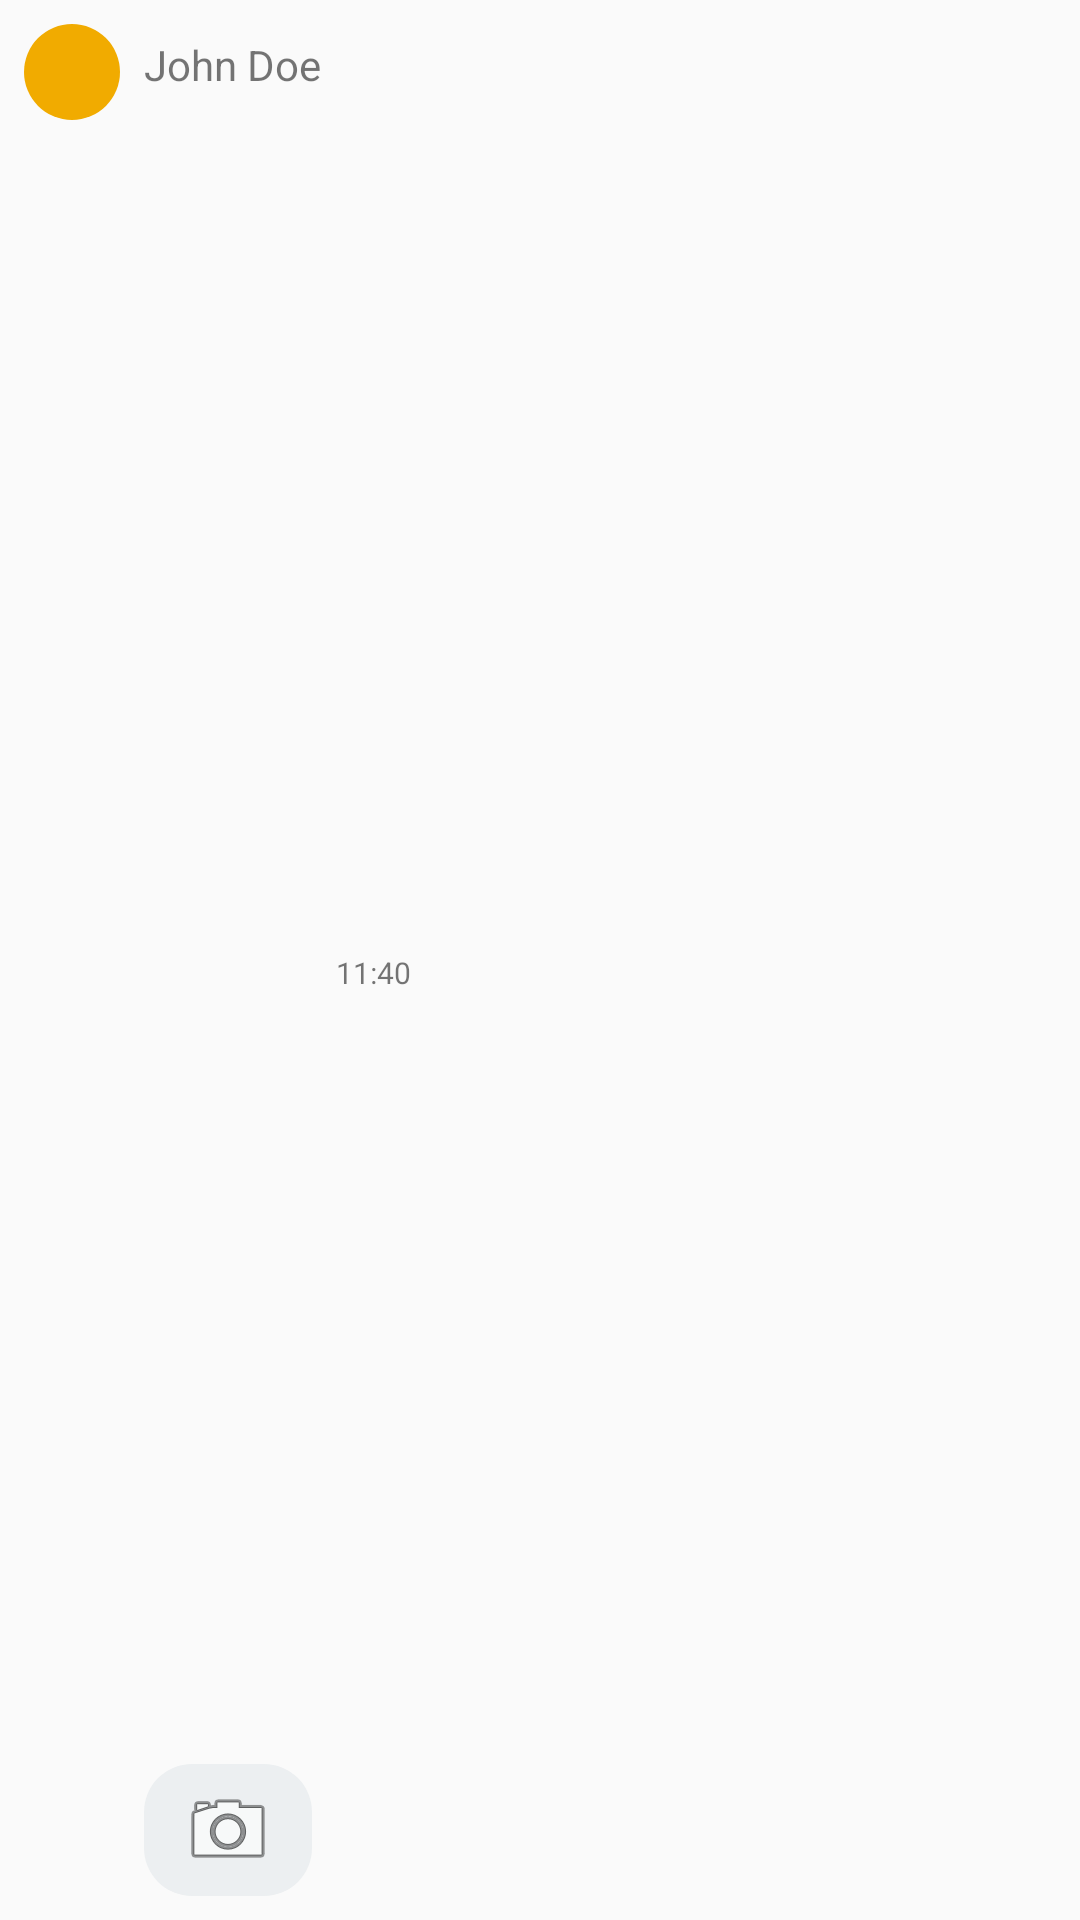

Icon bounding boxes for this 1080px x 1920px phone screenshot, format (x1, y1, x2, y2):
camera: (144, 1764, 312, 1896)
